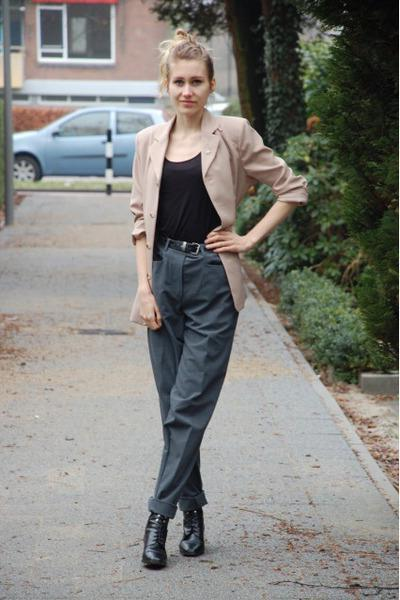jacket: (126, 110, 307, 312)
trousers: (110, 233, 251, 523)
vest: (149, 133, 225, 248)
